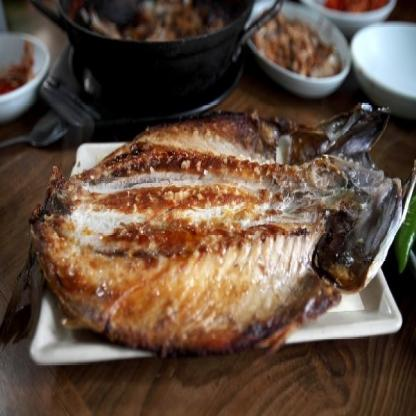Peixe: (27, 88, 416, 361)
